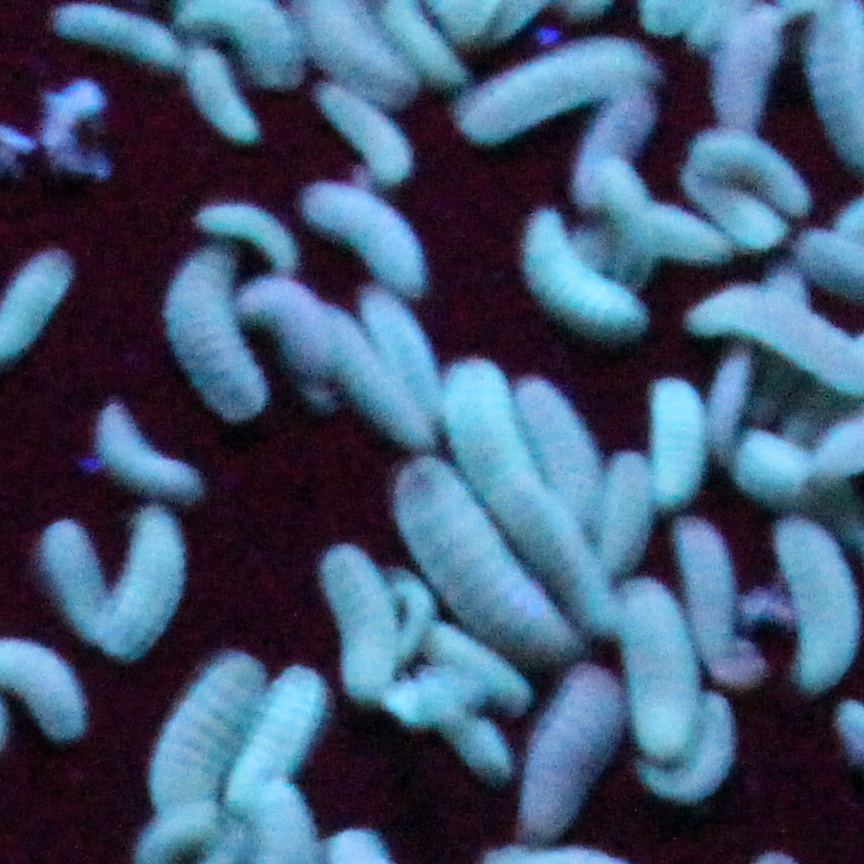larve: (371, 451, 577, 658), (455, 24, 673, 150), (510, 662, 632, 851), (155, 236, 277, 418), (513, 199, 650, 356), (142, 648, 253, 828), (298, 171, 450, 302), (221, 652, 335, 824), (347, 281, 456, 446), (767, 506, 863, 693), (309, 530, 409, 705), (664, 505, 758, 683), (91, 499, 184, 658), (87, 396, 213, 513), (691, 123, 817, 221), (316, 75, 427, 186), (190, 195, 305, 282), (641, 366, 710, 511), (37, 525, 120, 641), (183, 40, 266, 149)
